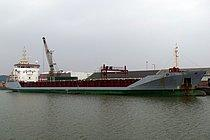Ship: (4, 32, 210, 103)
